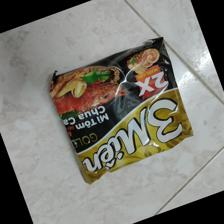3mien: (47, 37, 196, 185)
